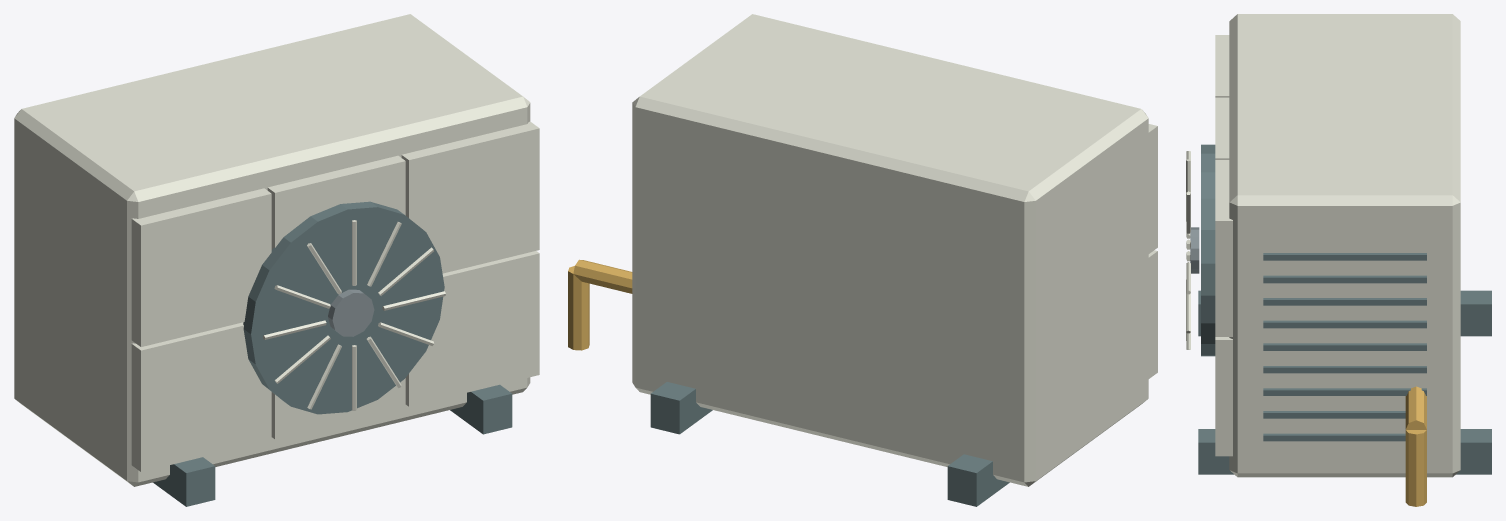
File: hvac_unit.fbx
3 renders of one model, left to right at view 1: azimuth 30°, elevation 25°; view 2: azimuth 150°, elevation 25°; view 3: azimuth 270°, elevation 25°, orthographic. The views are drawn at different scales.
Parts seen in each view (by area): view 1: hvac_unit__chassis, hvac_unit__fan_ring, hvac_unit__front_panel.003, hvac_unit__front_panel, hvac_unit__front_panel.005, hvac_unit__front_panel.002, hvac_unit__front_panel.004, hvac_unit__front_panel.001, hvac_unit__foot, hvac_unit__foot.001, hvac_unit__fan_hub; view 2: hvac_unit__chassis, hvac_unit__foot, hvac_unit__foot.001, hvac_unit__pipeB, hvac_unit__pipeA, hvac_unit__front_panel.003, hvac_unit__front_panel; view 3: hvac_unit__chassis, hvac_unit__fan_ring, hvac_unit__front_panel.005, hvac_unit__foot.001, hvac_unit__front_panel.002, hvac_unit__pipeB, hvac_unit__foot, hvac_unit__side_louver.005, hvac_unit__side_louver.007, hvac_unit__side_louver.003, hvac_unit__side_louver.004, hvac_unit__side_louver.006 (+8 smaller).
Part boxes in pixels (<box>): hvac_unit__chassis: <box>14,14,530,486</box>; hvac_unit__fan_ring: <box>243,201,444,414</box>; hvac_unit__front_panel.003: <box>131,188,271,346</box>; hvac_unit__front_panel: <box>131,322,271,471</box>; hvac_unit__front_panel.005: <box>401,121,539,273</box>; hvac_unit__front_panel.002: <box>405,251,539,406</box>; hvac_unit__front_panel.004: <box>267,155,405,249</box>; hvac_unit__front_panel.001: <box>271,378,405,439</box>; hvac_unit__foot: <box>153,457,215,506</box>; hvac_unit__foot.001: <box>450,384,512,434</box>; hvac_unit__fan_hub: <box>328,289,374,336</box>; hvac_unit__chassis: <box>632,14,1148,486</box>; hvac_unit__foot: <box>947,454,1009,506</box>; hvac_unit__foot.001: <box>650,382,712,434</box>; hvac_unit__pipeB: <box>568,266,589,350</box>; hvac_unit__pipeA: <box>573,259,632,293</box>; hvac_unit__front_panel.003: <box>1148,124,1157,253</box>; hvac_unit__front_panel: <box>1148,250,1157,378</box>; hvac_unit__chassis: <box>1229,14,1460,477</box>; hvac_unit__fan_ring: <box>1201,144,1215,356</box>; hvac_unit__front_panel.005: <box>1215,160,1232,336</box>; hvac_unit__foot.001: <box>1198,429,1491,474</box>; hvac_unit__front_panel.002: <box>1215,337,1232,456</box>; hvac_unit__pipeB: <box>1405,430,1426,506</box>; hvac_unit__foot: <box>1198,290,1491,336</box>; hvac_unit__side_louver.005: <box>1263,320,1426,328</box>; hvac_unit__side_louver.007: <box>1263,275,1426,283</box>; hvac_unit__side_louver.003: <box>1263,366,1426,373</box>; hvac_unit__side_louver.004: <box>1263,343,1426,350</box>; hvac_unit__side_louver.006: <box>1263,298,1426,305</box>.
Size of the model in its own units: 301 by 183 by 172.
